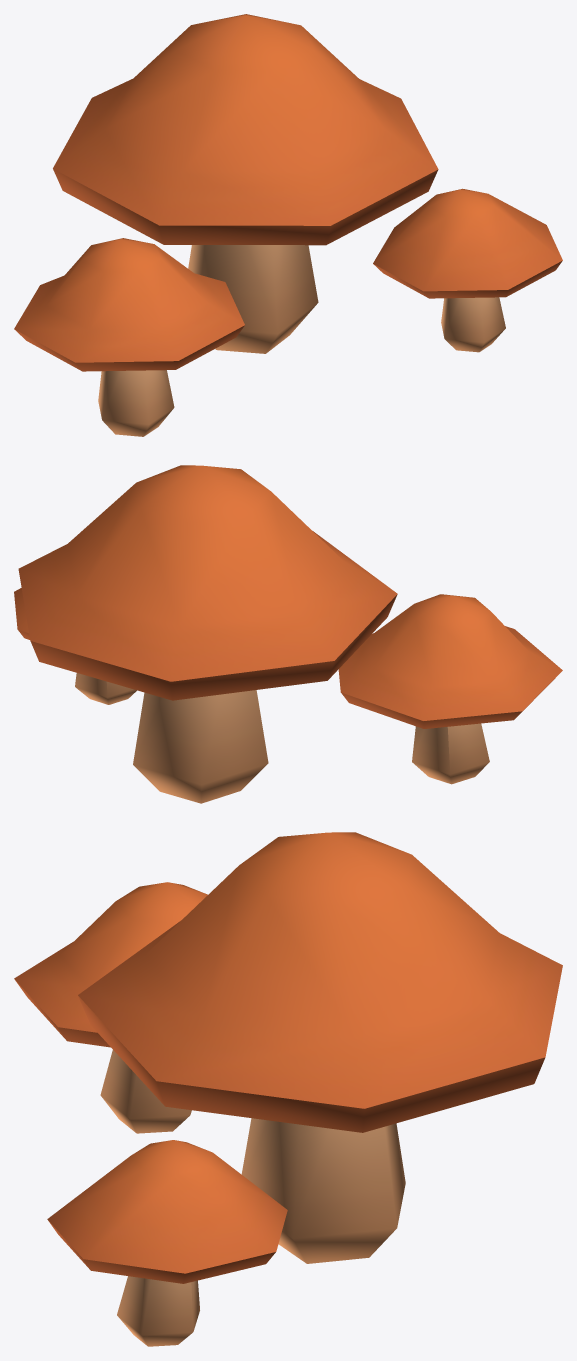
The model's file is mushroom_cluster_3.glb.
3 renders of one model, top to bottom at view 1: azimuth 30°, elevation 25°; view 2: azimuth 150°, elevation 25°; view 3: azimuth 270°, elevation 25°, orthographic. The views are drawn at different scales.
Parts seen in each view (by area): view 1: mushroom_cluster_3; view 2: mushroom_cluster_3; view 3: mushroom_cluster_3.
Part boxes in pixels (x1,y1,x2,y2): mushroom_cluster_3: [14, 14, 562, 436]; mushroom_cluster_3: [14, 465, 562, 803]; mushroom_cluster_3: [14, 832, 562, 1346].
Size of the model in its own units: 8.4 by 4.96 by 6.03.
Materials: 1 (1 with a texture image).
